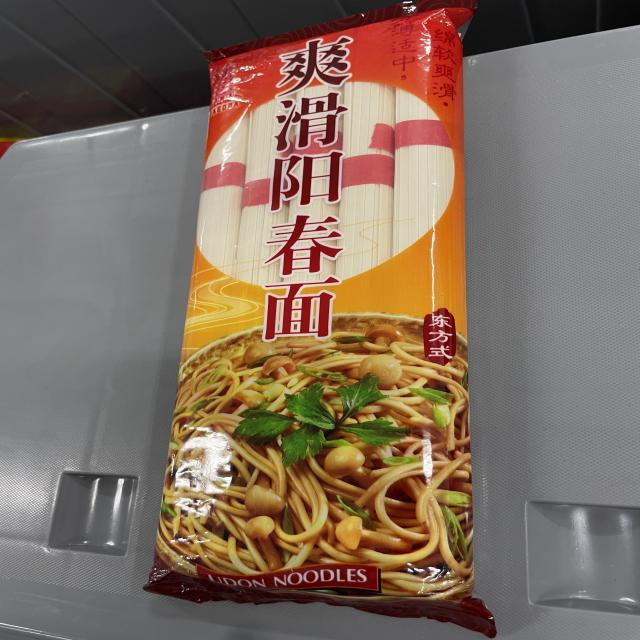object_name: (199, 53, 461, 607)
